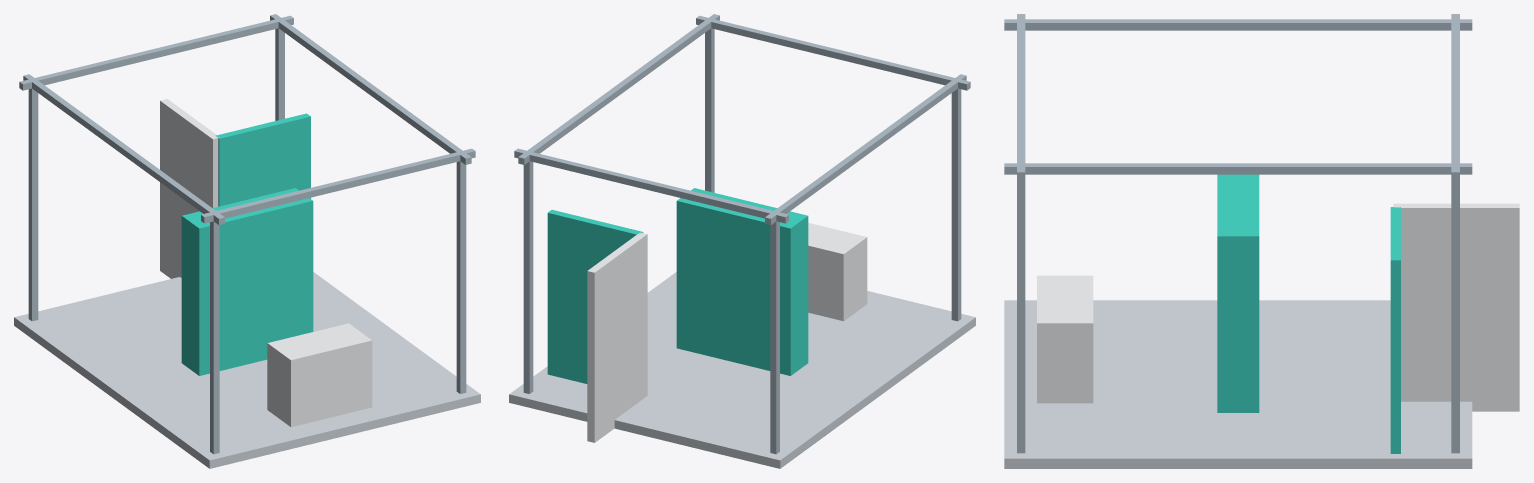
The picture shows the model from 3 angles, left to right: view 1: azimuth 30°, elevation 25°; view 2: azimuth 150°, elevation 25°; view 3: azimuth 270°, elevation 25°; orthographic projection. The views are drawn at different scales.
Visible parts, largest first — view 1: Exhibition Booth Concept; view 2: Exhibition Booth Concept; view 3: Exhibition Booth Concept.
Part boxes in pixels (left/top/right/bottom): Exhibition Booth Concept: left=14, top=14, right=480, bottom=468; Exhibition Booth Concept: left=509, top=14, right=975, bottom=468; Exhibition Booth Concept: left=1004, top=14, right=1519, bottom=468.
Bounding box in the file's own units: 4 × 3.49 × 5.51.
